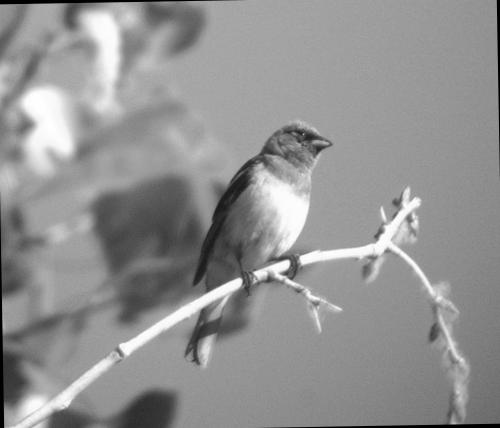bird: (172, 104, 348, 374)
